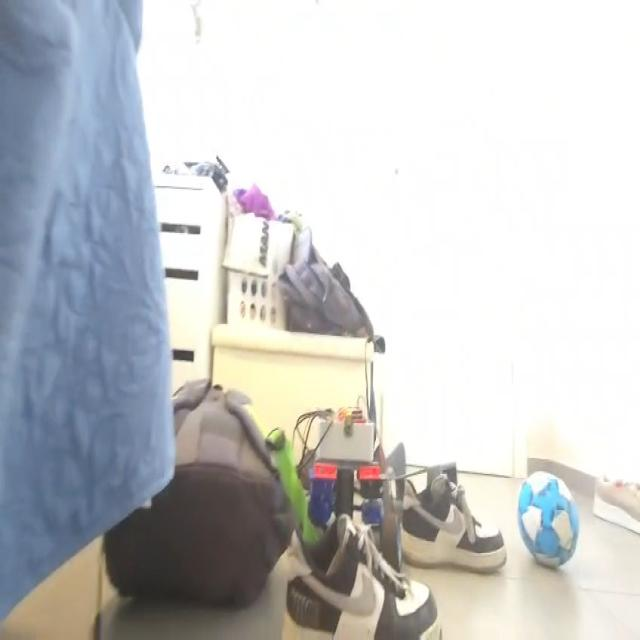Robot: (306, 404, 402, 570)
